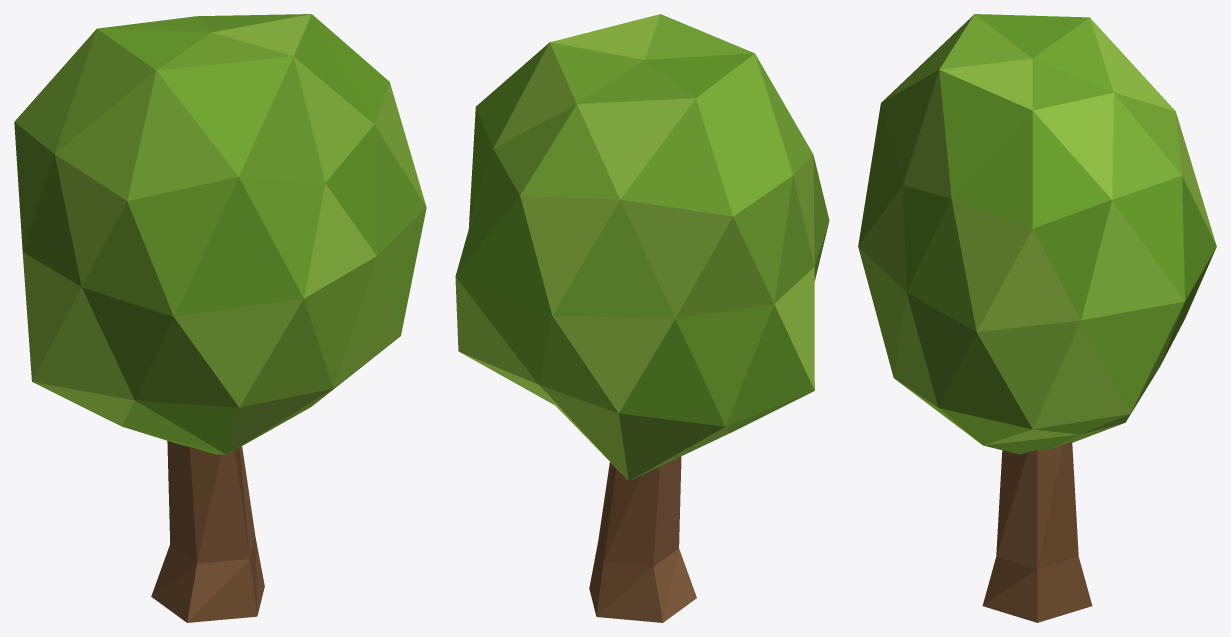
The model's file is Broadleaf.fbx.
3 renders of one model, left to right at view 1: azimuth 30°, elevation 25°; view 2: azimuth 150°, elevation 25°; view 3: azimuth 270°, elevation 25°, orthographic. The views are drawn at different scales.
Parts seen in each view (by area): view 1: Asset_Broadleaf; view 2: Asset_Broadleaf; view 3: Asset_Broadleaf.
Part boxes in pixels (x1,y1,x2,y2): Asset_Broadleaf: [14, 14, 426, 622]; Asset_Broadleaf: [455, 14, 829, 622]; Asset_Broadleaf: [858, 14, 1216, 622].
Size of the model in its own units: 3.24 by 4.88 by 2.92.
